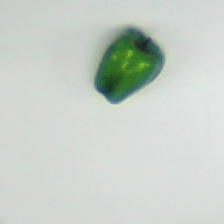greenpepper: (78, 12, 172, 106)
